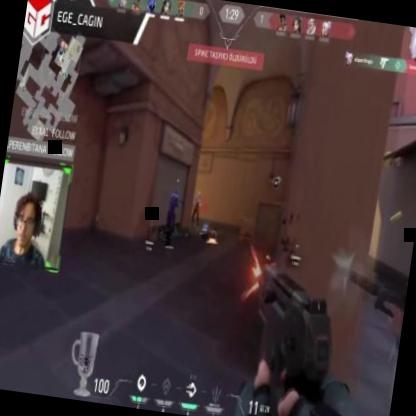enemy: (190, 191, 202, 231)
enemy_head: (196, 191, 200, 196)
